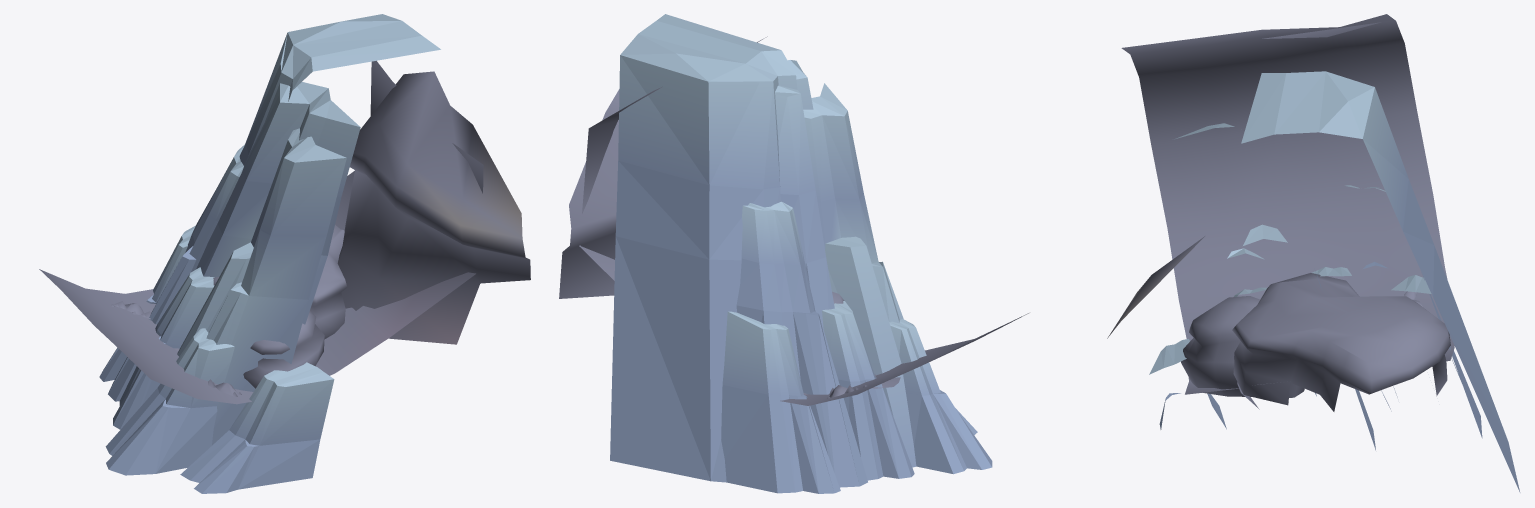
The model's file is Arctic_Luge_TunnelObstacle_Left_Mid_B.glb.
The picture shows the model from 3 angles, left to right: view 1: azimuth 30°, elevation 25°; view 2: azimuth 150°, elevation 25°; view 3: azimuth 270°, elevation 25°; orthographic projection. The views are drawn at different scales.
Parts seen in each view (by area): view 1: Arctic_Luge_TunnelObstacle_Left_Mid_B, Arctic_Narrows_Left_IceWall_A02, Arctic_Narrows_Left_IceWall_A02_Mid, Arctic_Narrows_Left_IceWall_A02_Right, Arctic_Narrows_Left_IceWall_A02_Left; view 2: Arctic_Narrows_Left_IceWall_A02, Arctic_Narrows_Left_IceWall_A02_Left, Arctic_Narrows_Left_IceWall_A02_Mid, Arctic_Luge_TunnelObstacle_Left_Mid_B; view 3: Arctic_Luge_TunnelObstacle_Left_Mid_B, Arctic_Narrows_Left_IceWall_A02, Arctic_Narrows_Left_IceWall_A02_Left, Arctic_Narrows_Left_IceWall_A02_Right, Arctic_Narrows_Left_IceWall_A02_Mid.
Boxes of the visible parts, box(x1,y1,x2,y2) form: Arctic_Luge_TunnelObstacle_Left_Mid_B: box(39, 60, 530, 404); Arctic_Narrows_Left_IceWall_A02: box(177, 14, 440, 445); Arctic_Narrows_Left_IceWall_A02_Mid: box(105, 267, 234, 475); Arctic_Narrows_Left_IceWall_A02_Right: box(180, 362, 334, 493); Arctic_Narrows_Left_IceWall_A02_Left: box(99, 144, 244, 401); Arctic_Narrows_Left_IceWall_A02: box(610, 14, 916, 482); Arctic_Narrows_Left_IceWall_A02_Left: box(721, 201, 867, 493); Arctic_Narrows_Left_IceWall_A02_Mid: box(822, 301, 992, 480); Arctic_Luge_TunnelObstacle_Left_Mid_B: box(559, 36, 1028, 405); Arctic_Luge_TunnelObstacle_Left_Mid_B: box(1107, 14, 1454, 411); Arctic_Narrows_Left_IceWall_A02: box(1174, 71, 1520, 492); Arctic_Narrows_Left_IceWall_A02_Left: box(1345, 185, 1482, 438); Arctic_Narrows_Left_IceWall_A02_Right: box(1149, 339, 1226, 429); Arctic_Narrows_Left_IceWall_A02_Mid: box(1234, 267, 1397, 411).
Size of the model in its own units: 5.08 by 4.46 by 3.87.
